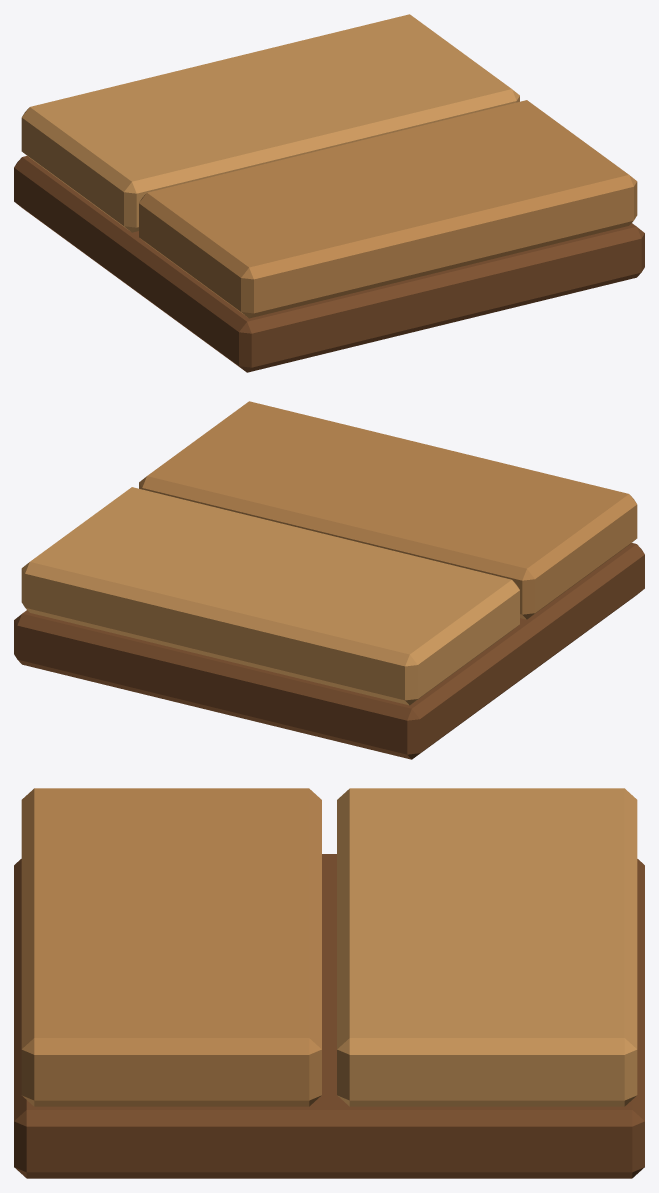
File: mod_floor_tile_wood.glb
3 renders of one model, top to bottom at view 1: azimuth 30°, elevation 25°; view 2: azimuth 150°, elevation 25°; view 3: azimuth 270°, elevation 25°, orthographic. The views are drawn at different scales.
Visible parts, largest first — view 1: mod_floor_tile_wood; view 2: mod_floor_tile_wood; view 3: mod_floor_tile_wood.
Part boxes in pixels (x1,y1,x2,y2): mod_floor_tile_wood: [14, 14, 644, 372]; mod_floor_tile_wood: [14, 401, 644, 759]; mod_floor_tile_wood: [14, 788, 644, 1178].
Size of the model in its own units: 0.5 by 0.12 by 0.5.
